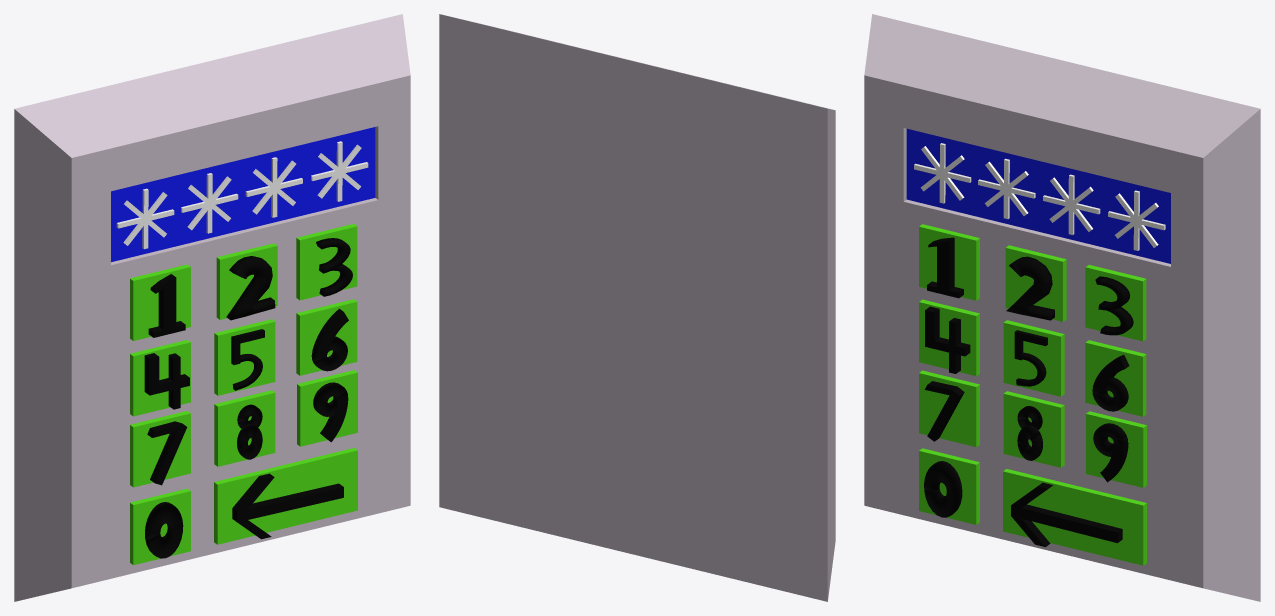
Rendered from fixed_keypad_7.fbx.
The picture shows the model from 3 angles, left to right: view 1: azimuth 30°, elevation 25°; view 2: azimuth 150°, elevation 25°; view 3: azimuth 330°, elevation 25°; orthographic projection.
Visible parts, largest first — view 1: Cube.010, Cube.019, Cube.020, Cube.021, Cube.022; view 2: Cube.010; view 3: Cube.010, Cube.021, Cube.019, Cube.020, Cube.022.
Part boxes in pixels (left/top/right/bottom): Cube.010: left=14, top=14, right=410, bottom=601; Cube.019: left=116, top=188, right=174, bottom=249; Cube.020: left=181, top=173, right=238, bottom=233; Cube.021: left=245, top=157, right=302, bottom=217; Cube.022: left=311, top=141, right=368, bottom=201; Cube.010: left=439, top=14, right=835, bottom=601; Cube.010: left=864, top=14, right=1260, bottom=601; Cube.021: left=1043, top=174, right=1100, bottom=234; Cube.019: left=914, top=143, right=971, bottom=203; Cube.020: left=978, top=158, right=1035, bottom=219; Cube.022: left=1108, top=190, right=1165, bottom=250.
Bounding box in the file's own units: 78.3 × 94.99 × 14.94.
